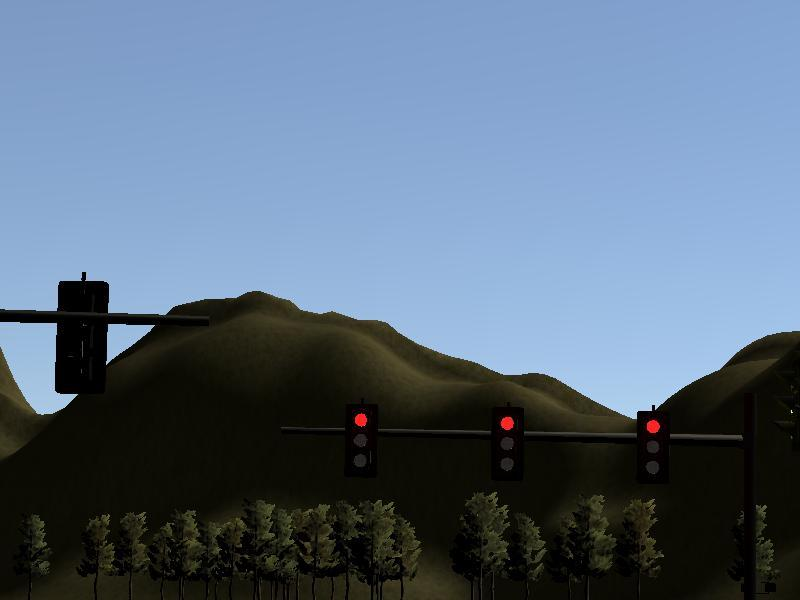Red: (637, 411, 669, 484), (491, 407, 523, 480), (345, 404, 377, 477)
